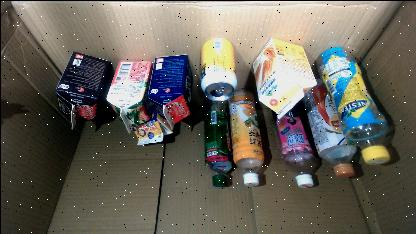Can: (200, 36, 236, 100)
Plastic Bottle: (316, 47, 390, 164), (300, 76, 356, 178), (270, 98, 316, 188), (226, 90, 264, 186), (201, 93, 233, 187)
